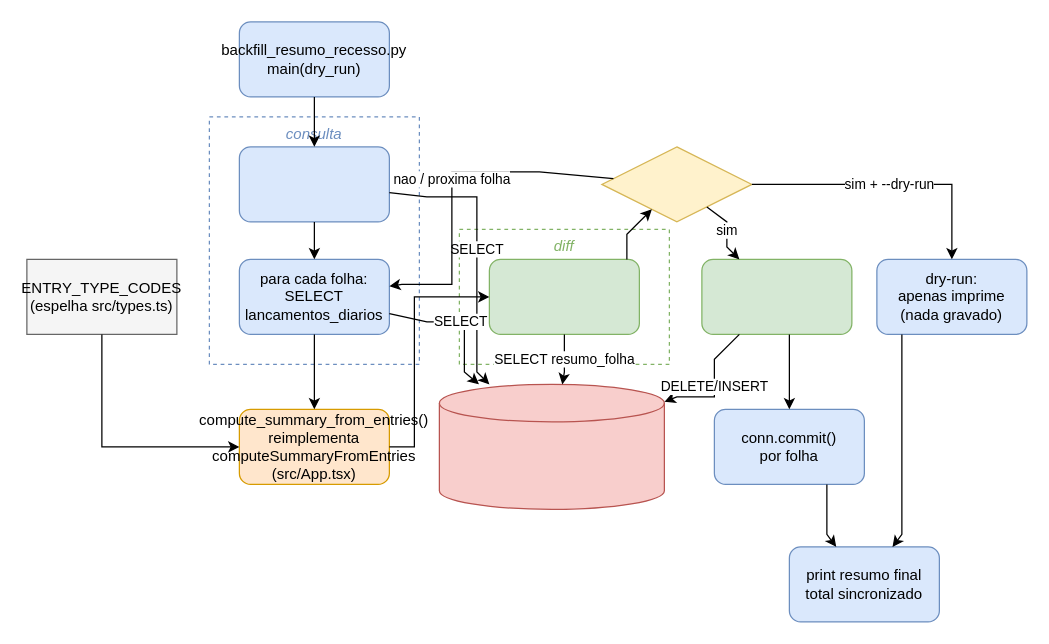
Image size: 1049x644. Some labels were removed from this diagram. The shapes that lost their labels are listed below. From the top down, each one's centre as x and y in pixels, then its label:
At point (313, 184): "SELECT folhas_ponto JOIN profissionais WHERE mes=5 ano=2026".
At point (676, 184): "divergente?".
At point (563, 296): "compara expected_set vs actual_set (resumo_folha atual)".
At point (776, 296): "DELETE + INSERT resumo_folha".
At point (551, 446): "MySQL folhaponto_db (folhas_ponto, lancamentos_diarios, resumo_folha)".
